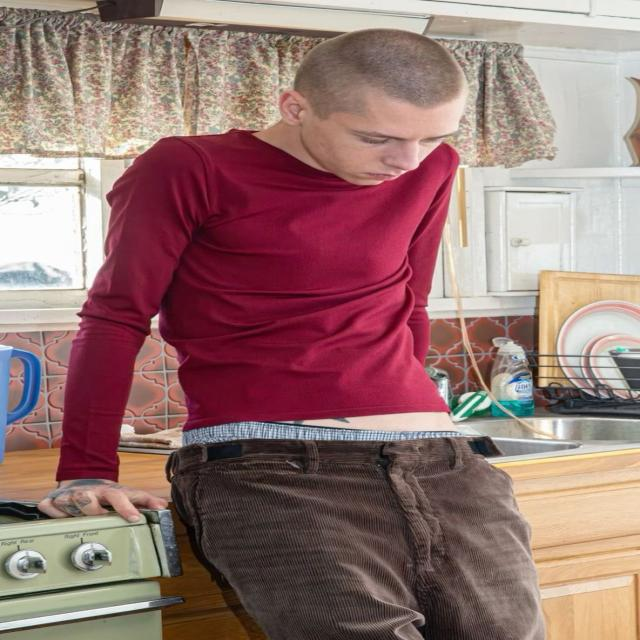9_cabeza_baja: (276, 27, 469, 189)
